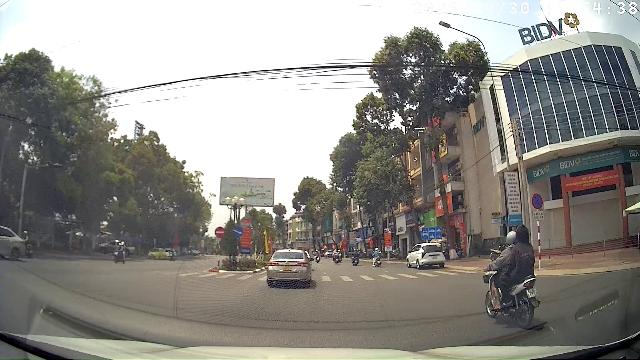102-cam-di-nguoc-chieu: (214, 226, 225, 238)
130-cam-dung-va-do-xe: (532, 192, 543, 210)
302a-huong-phai-di-vong-chuong-ngai-vat-1: (231, 226, 244, 237)
